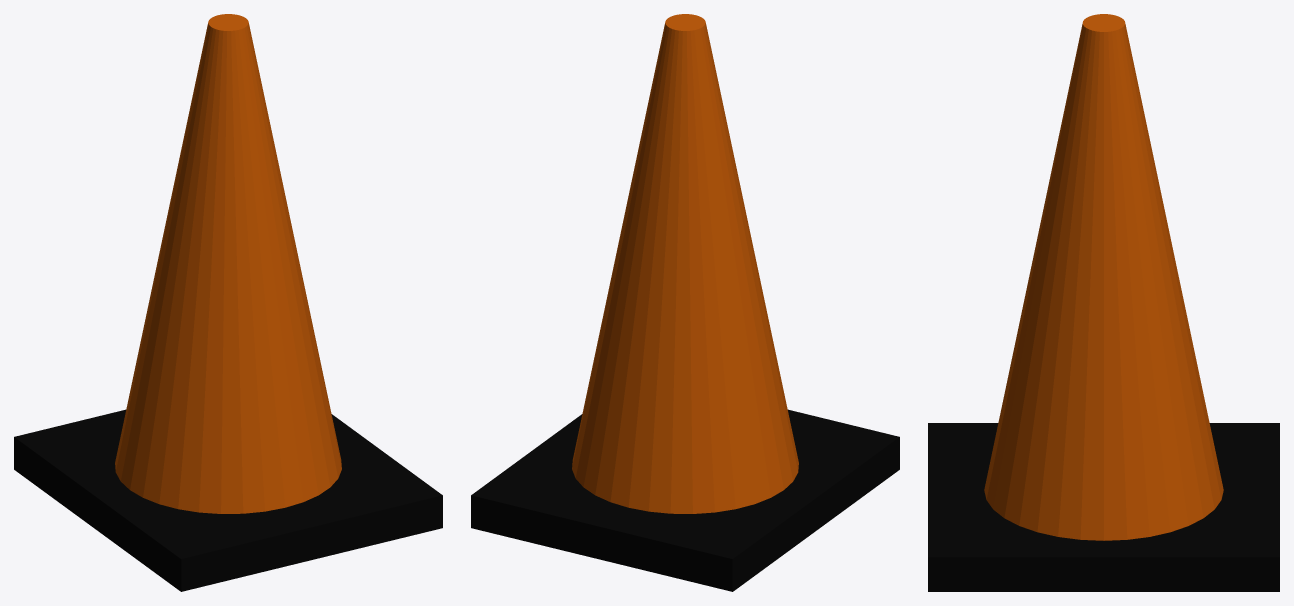
The picture shows the model from 3 angles, left to right: view 1: azimuth 30°, elevation 25°; view 2: azimuth 150°, elevation 25°; view 3: azimuth 270°, elevation 25°; orthographic projection. The views are drawn at different scales.
Parts seen in each view (by area): view 1: Cylinder; view 2: Cylinder; view 3: Cylinder.
Boxes of the visible parts, bbox=[...] form: Cylinder: bbox=[14, 14, 442, 591]; Cylinder: bbox=[471, 14, 899, 591]; Cylinder: bbox=[928, 14, 1279, 591].
Bounding box in the file's own units: 105 × 94.79 × 165.
